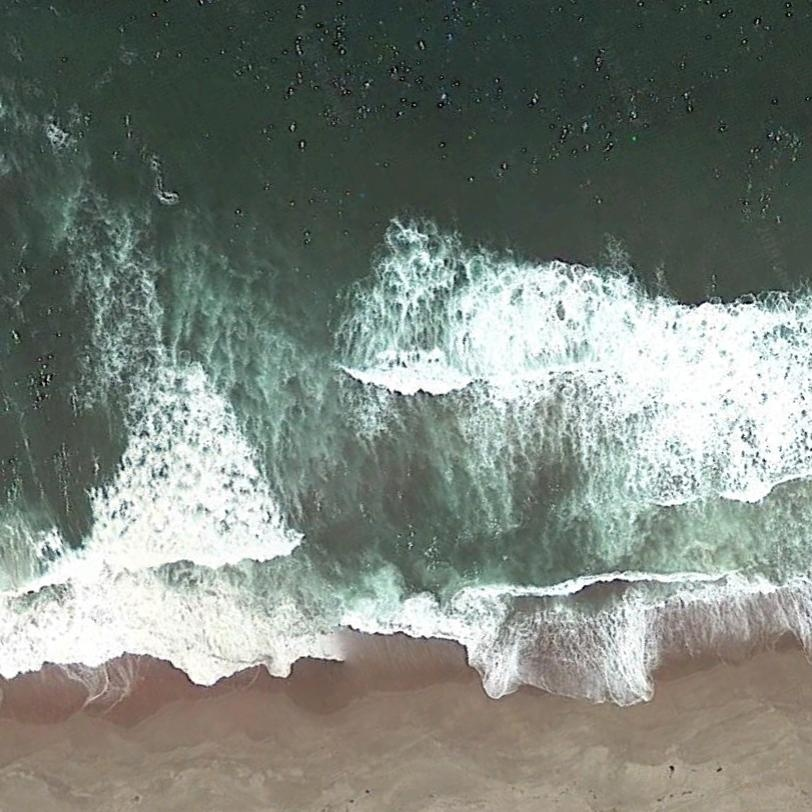rip_current: (100, 152, 604, 591)
